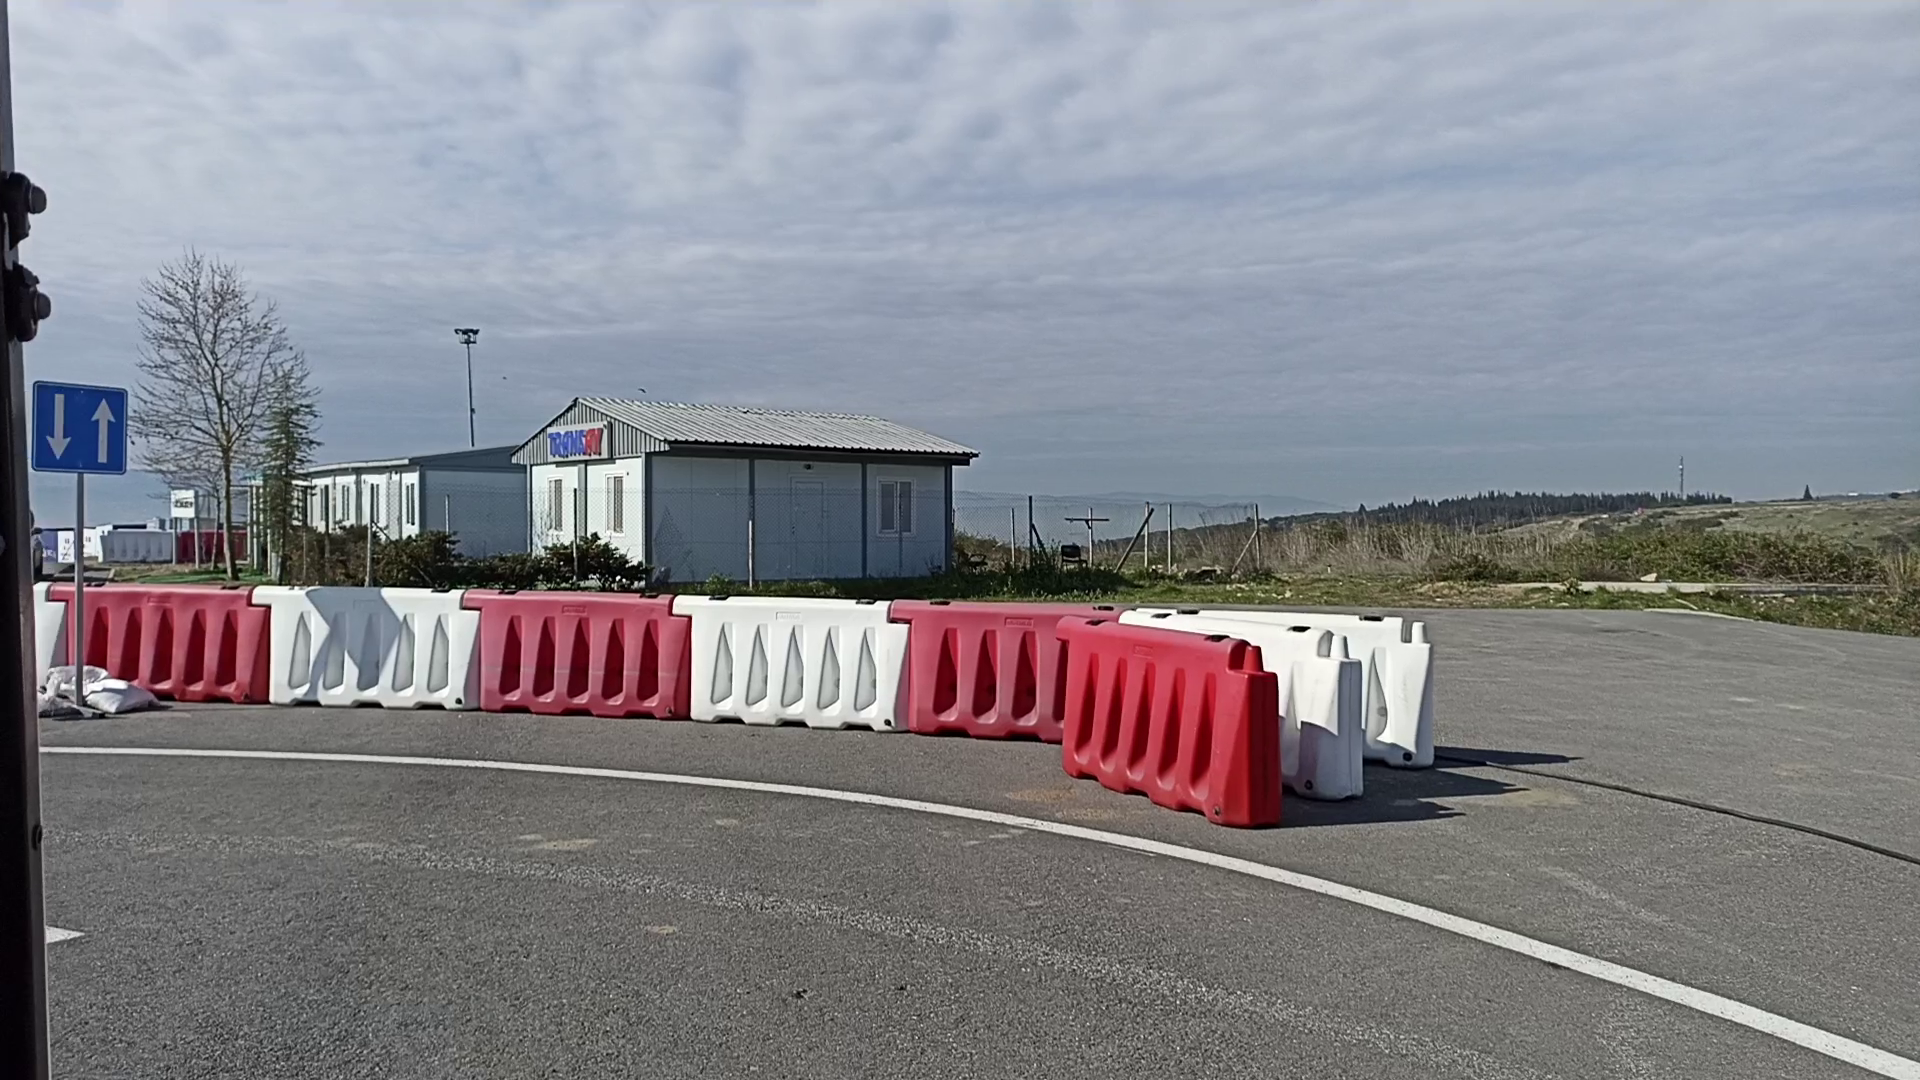oneway: (30, 378, 131, 479)
